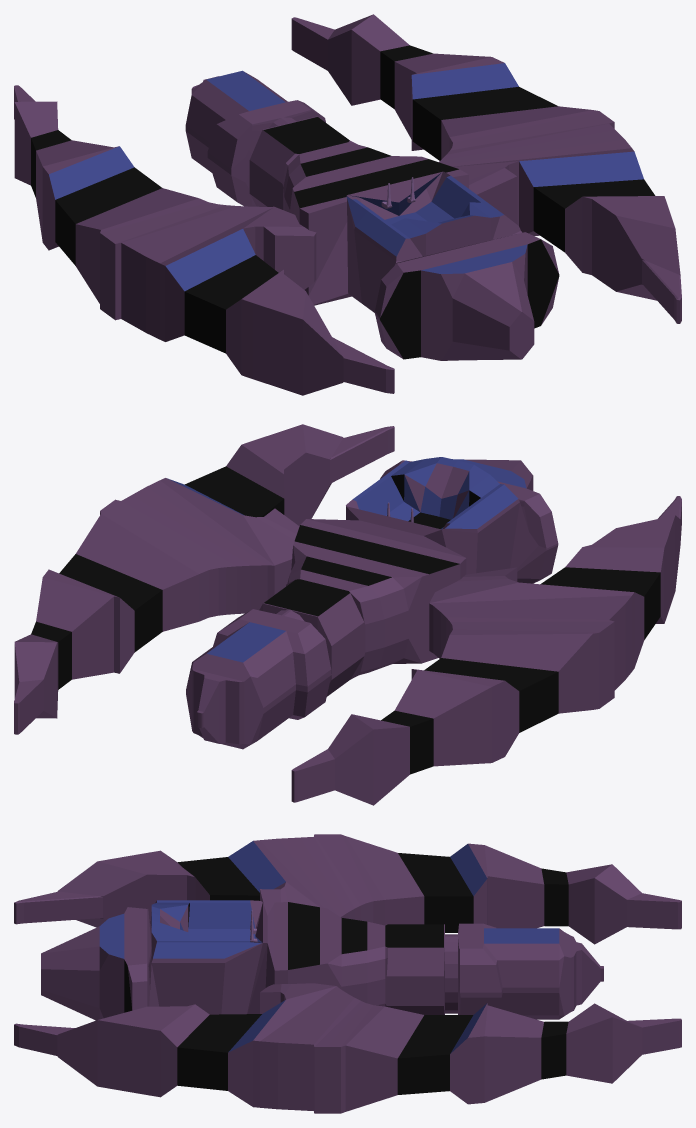
Rendered from ship_2_VR.fbx.
3 views of the same model, one above another, from view 1: azimuth 30°, elevation 25°; view 2: azimuth 150°, elevation 25°; view 3: azimuth 270°, elevation 25° (orthographic). The views are drawn at different scales.
Visible parts, largest first — view 1: Ship_2_vr; view 2: Ship_2_vr; view 3: Ship_2_vr.
Part boxes in pixels (bbox=[...]): Ship_2_vr: bbox=[14, 14, 681, 395]; Ship_2_vr: bbox=[14, 424, 681, 805]; Ship_2_vr: bbox=[14, 834, 681, 1113].
Size of the model in its own units: 362 by 78.66 by 481.
